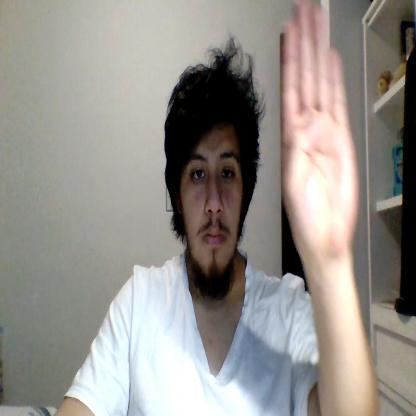B: (283, 0, 359, 260)
